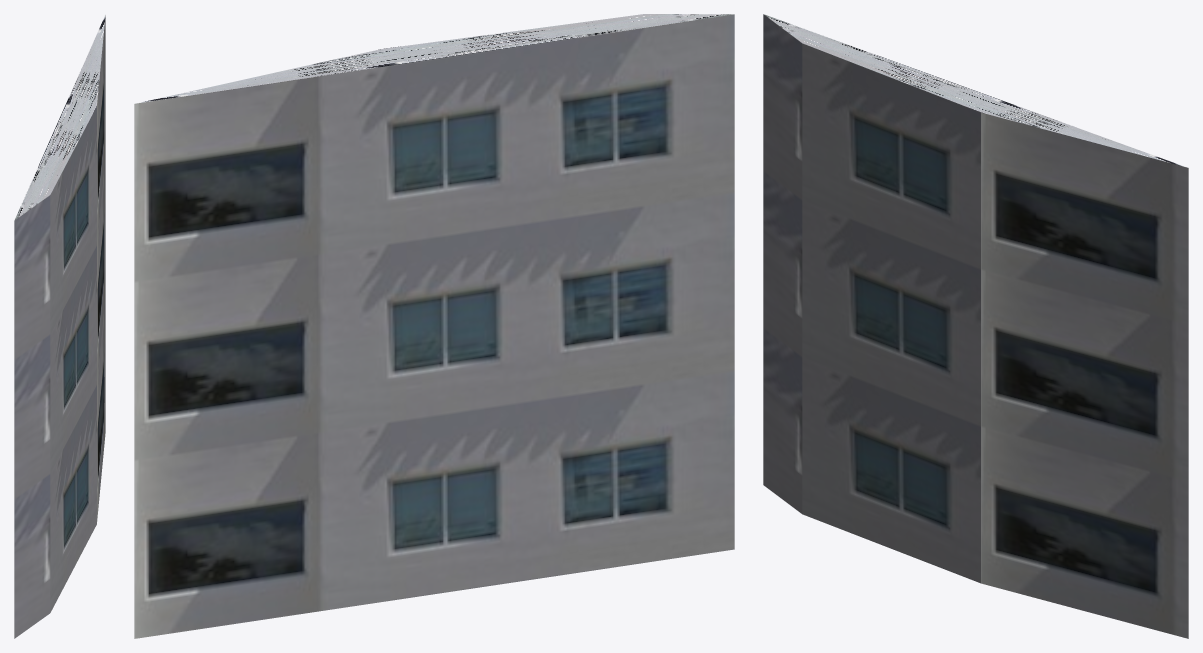
The model's file is ResTex__1962.fbx.
The picture shows the model from 3 angles, left to right: view 1: azimuth 30°, elevation 25°; view 2: azimuth 150°, elevation 25°; view 3: azimuth 270°, elevation 25°; orthographic projection. The views are drawn at different scales.
Visible parts, largest first — view 1: CityEngineMaterial_10_m, CityEngineMaterial_m; view 2: CityEngineMaterial_10_m, CityEngineMaterial_m; view 3: CityEngineMaterial_10_m, CityEngineMaterial_m.
Boxes of the visible parts, x1,y1,x2,y2 form: CityEngineMaterial_10_m: (14,15,105,638); CityEngineMaterial_m: (14,14,105,220); CityEngineMaterial_10_m: (134,14,734,638); CityEngineMaterial_m: (136,14,733,103); CityEngineMaterial_10_m: (763,14,1188,638); CityEngineMaterial_m: (764,14,1186,167).
Size of the model in its own units: 6.31 by 9 by 7.37.
2 materials, 2 textured.
